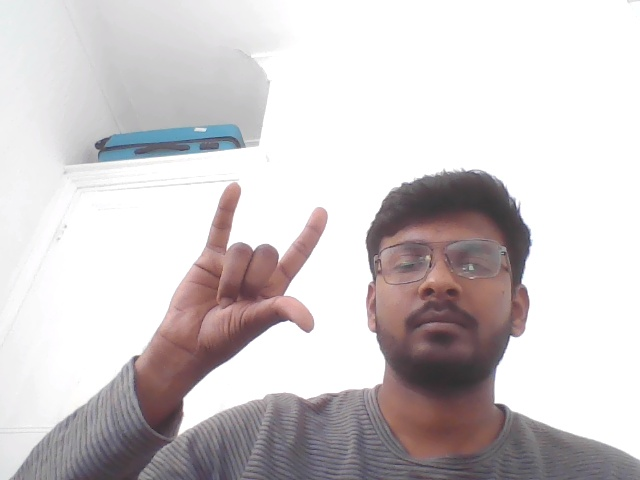ILoveYou: (111, 162, 342, 428)
